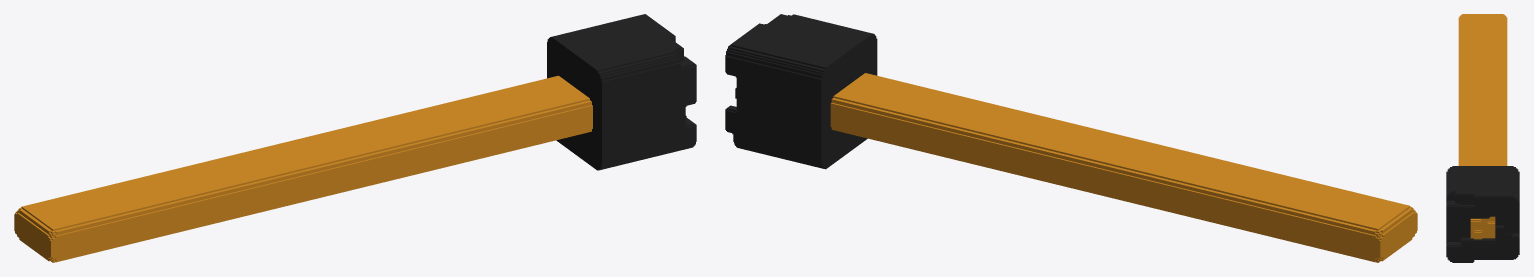
The model's file is GORODITH_seesaw.obj.
The picture shows the model from 3 angles, left to right: view 1: azimuth 30°, elevation 25°; view 2: azimuth 150°, elevation 25°; view 3: azimuth 270°, elevation 25°; orthographic projection. The views are drawn at different scales.
Parts seen in each view (by area): view 1: Untitled; view 2: Untitled; view 3: Untitled.
Part boxes in pixels (box(x1,y1,x2,y2)): Untitled: box(14, 14, 696, 262); Untitled: box(725, 14, 1417, 262); Untitled: box(1446, 14, 1519, 262).
Bounding box in the file's own units: 40 × 6 × 6.
Materials: 1 (1 with a texture image).
